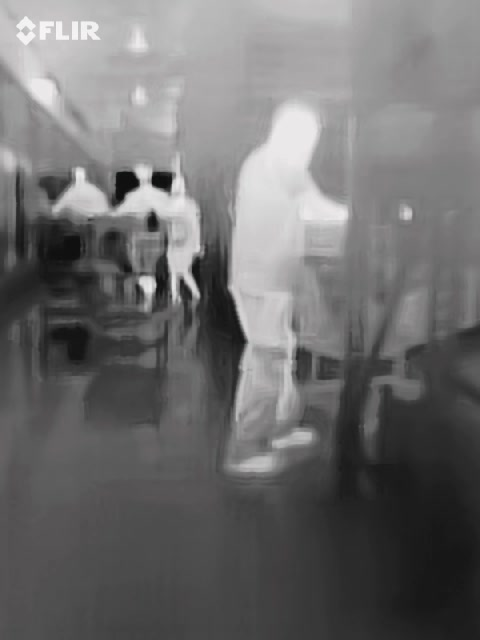head: (267, 100, 324, 167)
